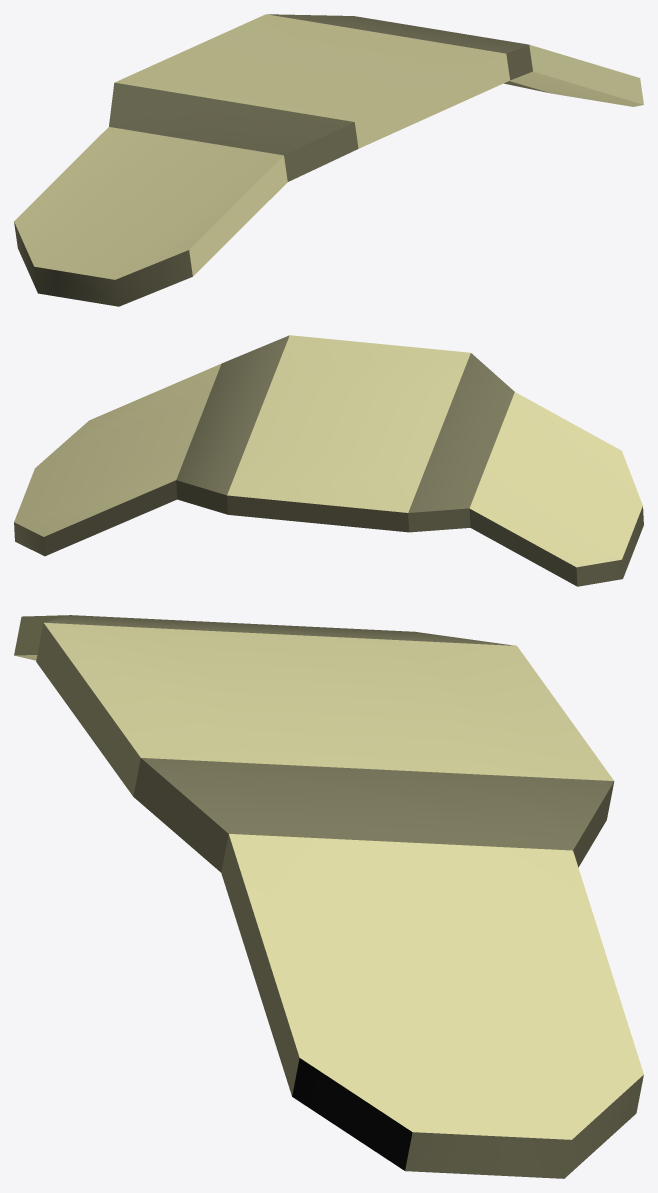
The model's file is msh_item_Bandaid.fbx.
3 views of the same model, one above another, from view 1: azimuth 30°, elevation 25°; view 2: azimuth 150°, elevation 25°; view 3: azimuth 270°, elevation 25° (orthographic). The views are drawn at different scales.
Visible parts, largest first — view 1: pCube5; view 2: pCube5; view 3: pCube5.
Part boxes in pixels (x1,y1,x2,y2): pCube5: [14, 14, 643, 306]; pCube5: [14, 335, 643, 586]; pCube5: [14, 615, 643, 1178].
Bounding box in the file's own units: 67.74 × 18.86 × 37.89.
